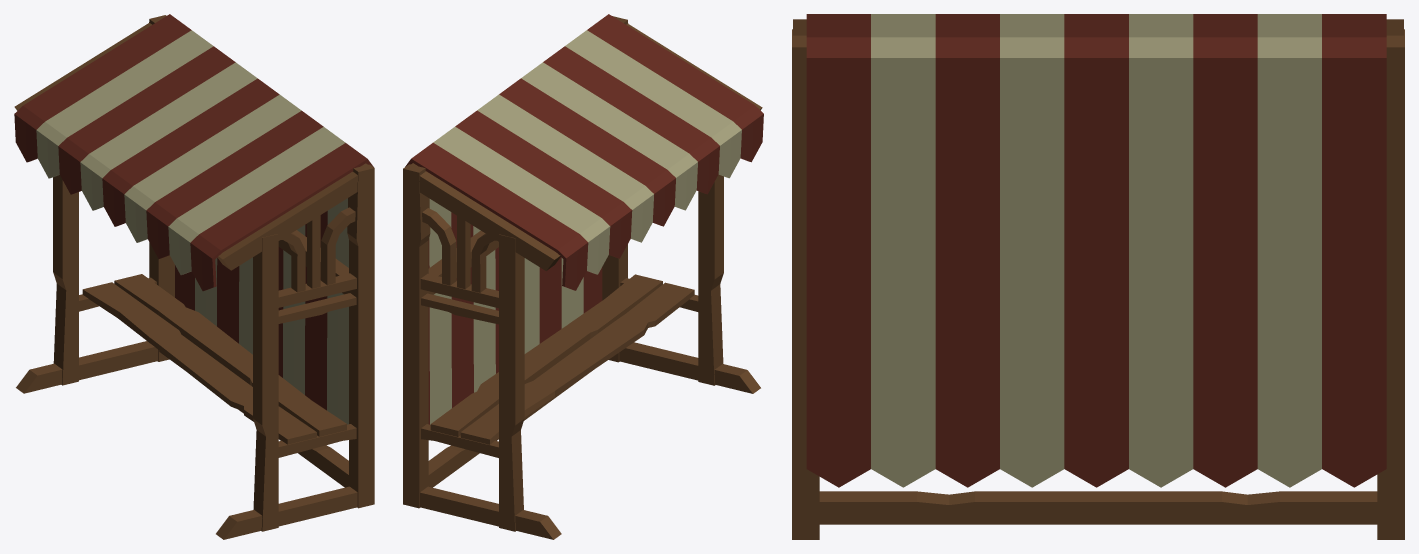
Rendered from v_marketstand_2.glb.
3 renders of one model, left to right at view 1: azimuth 30°, elevation 25°; view 2: azimuth 150°, elevation 25°; view 3: azimuth 270°, elevation 25°, orthographic. The views are drawn at different scales.
Parts seen in each view (by area): view 1: MarketStand_2; view 2: MarketStand_2; view 3: MarketStand_2.
Part boxes in pixels (x1=…): MarketStand_2: x1=14, y1=14, x2=374, y2=539; MarketStand_2: x1=403, y1=14, x2=763, y2=539; MarketStand_2: x1=792, y1=14, x2=1404, y2=539.
Bounding box in the file's own units: 0.5171 × 1.04 × 1.15.
